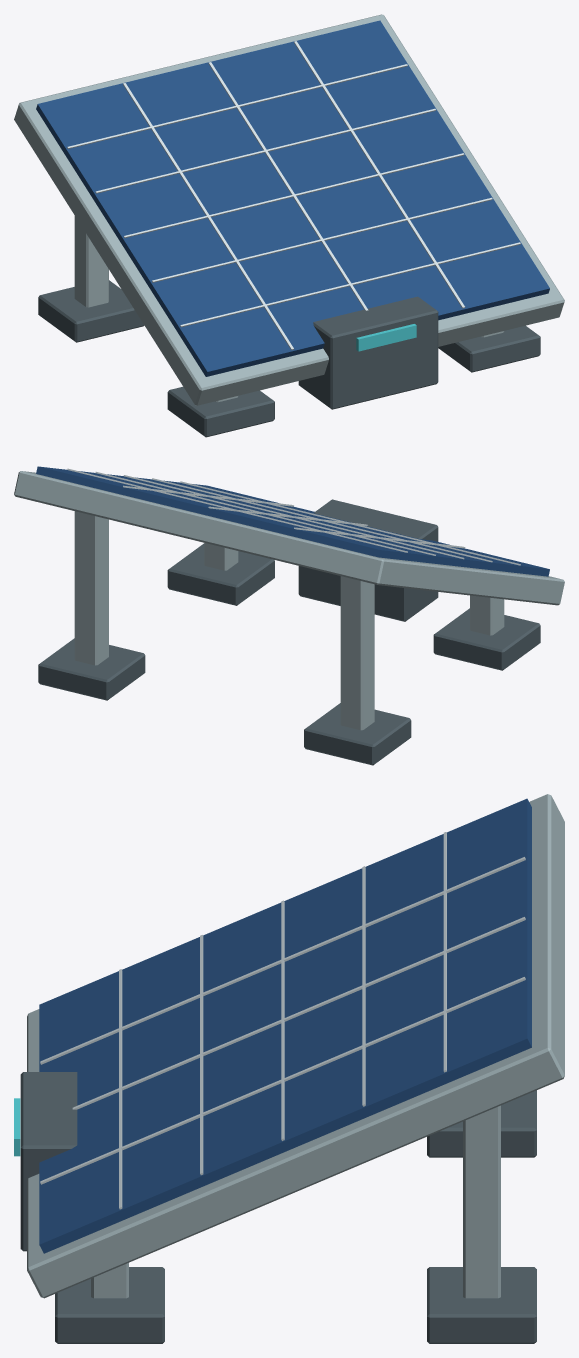
Rendered from solar-panel.glb.
The picture shows the model from 3 angles, top to bottom: view 1: azimuth 30°, elevation 25°; view 2: azimuth 150°, elevation 25°; view 3: azimuth 270°, elevation 25°; orthographic projection. The views are drawn at different scales.
Parts seen in each view (by area): view 1: Dark photovoltaic cells.001, Rack leg.004, Bolted ground shoe.004, Cell column busbar.003, Inverter status strip.001; view 2: Rack leg.004, Bolted ground shoe.004, Dark photovoltaic cells.001, Cell column busbar.003; view 3: Dark photovoltaic cells.001, Rack leg.004, Bolted ground shoe.004, Cell column busbar.003.
Boxes of the visible parts, <box> form: Dark photovoltaic cells.001: <box>36,20,549,376</box>; Rack leg.004: <box>14,14,564,405</box>; Bolted ground shoe.004: <box>38,280,540,437</box>; Cell column busbar.003: <box>67,41,520,350</box>; Inverter status strip.001: <box>356,324,416,351</box>; Rack leg.004: <box>14,471,564,730</box>; Bolted ground shoe.004: <box>38,499,540,765</box>; Dark photovoltaic cells.001: <box>36,466,549,576</box>; Cell column busbar.003: <box>67,468,520,565</box>; Dark photovoltaic cells.001: <box>39,798,531,1253</box>; Rack leg.004: <box>27,794,564,1298</box>; Bolted ground shoe.004: <box>20,1072,536,1343</box>; Cell column busbar.003: <box>40,832,525,1209</box>.
Size of the model in its own units: 0.88 by 0.4961 by 0.8001.
